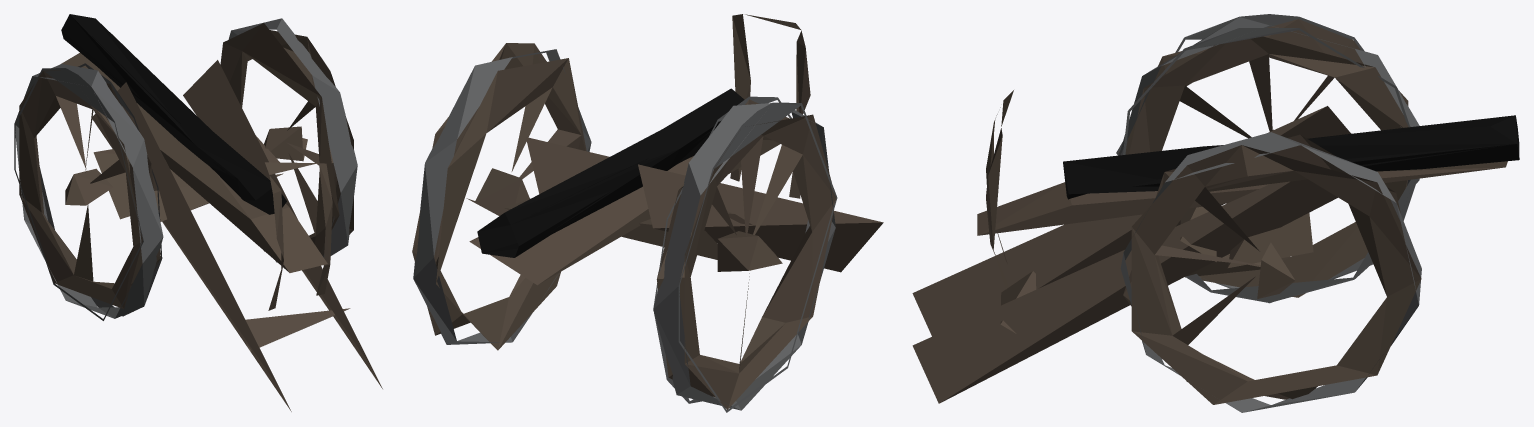
Rendered from cannon.lod2.glb.
3 renders of one model, left to right at view 1: azimuth 30°, elevation 25°; view 2: azimuth 150°, elevation 25°; view 3: azimuth 270°, elevation 25°, orthographic. The views are drawn at different scales.
Visible parts, largest first — view 1: Ruote.001_0; view 2: Ruote.001_0; view 3: Ruote.001_0.
Part boxes in pixels (x1,y1,x2,y2): Ruote.001_0: (14,14,382,411); Ruote.001_0: (412,14,883,412); Ruote.001_0: (912,14,1519,412).
Size of the model in its own units: 1.28 by 1.24 by 2.3.
